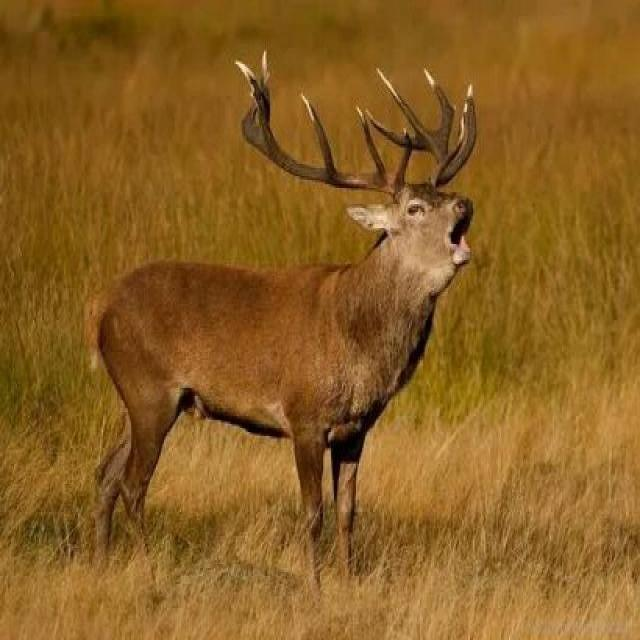deer: (88, 72, 522, 563)
